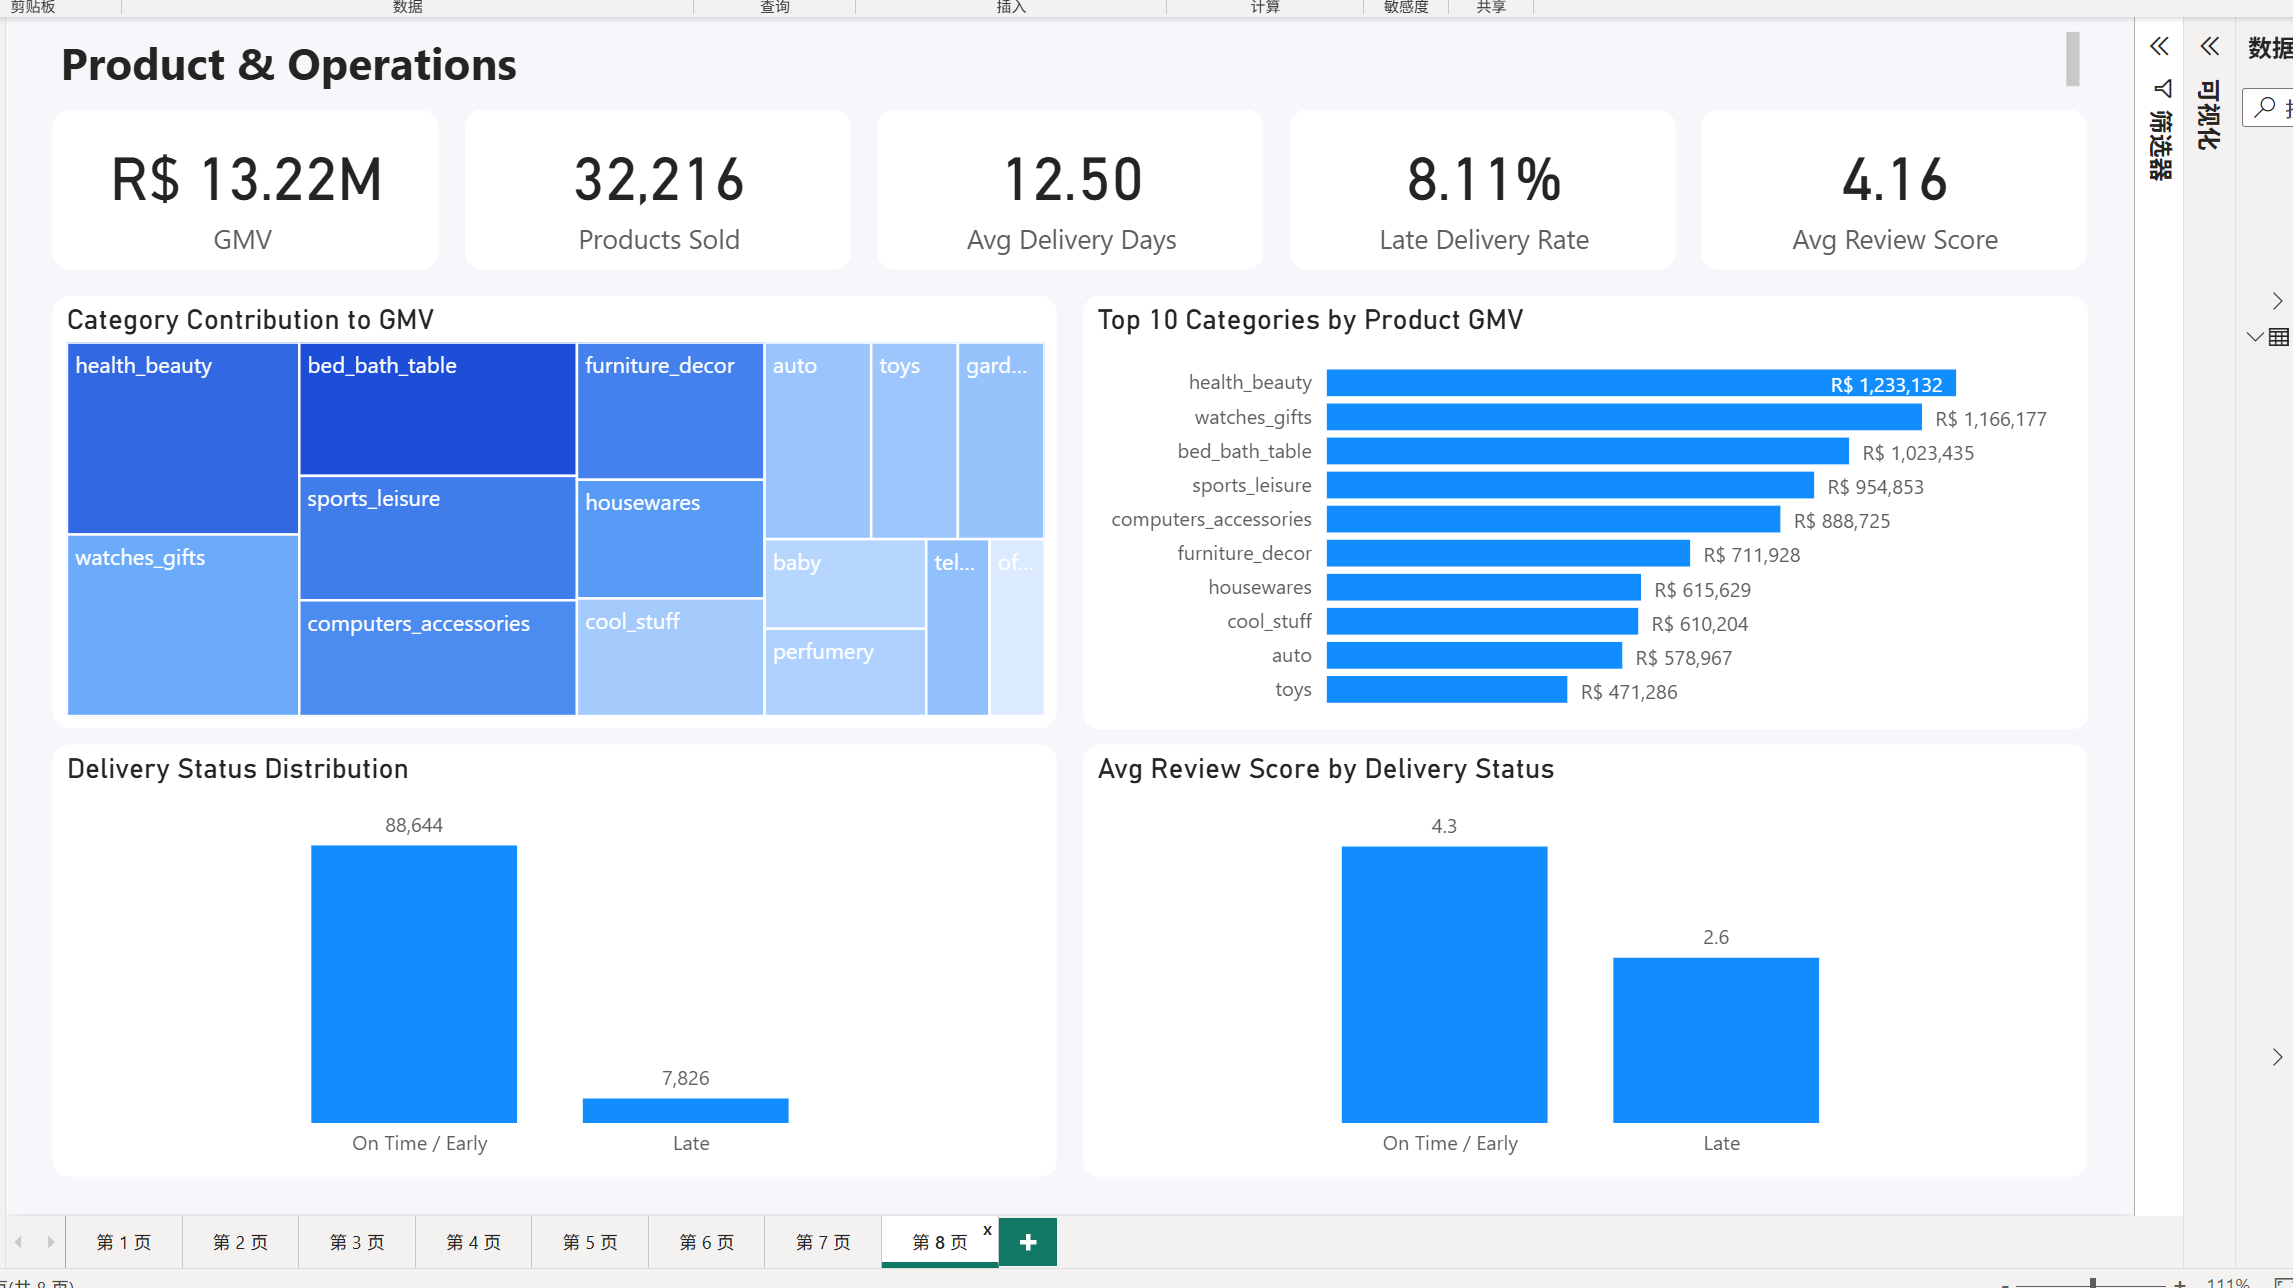

What the dashboard file says about the page in this screenshot:
{"tool":"powerbi","page":{"name":"第 3页","canvas":[1280,720],"ordinal":2},"visuals":[{"type":"textbox","box":[28,4,1224,44.3],"z":0},{"type":"card","fields":{"Values":["mart_powerbi_orders.Avg Review Score"]},"box":[1020,56,232.3,96],"z":1000},{"type":"card","fields":{"Values":["mart_powerbi_orders.Late Delivery Rate"]},"box":[772,56,232.3,96],"z":2000},{"type":"card","fields":{"Values":["mart_powerbi_orders.Avg Delivery Days"]},"box":[524,56.3,232.3,96],"z":3000},{"type":"card","fields":{"Values":["mart_powerbi_orders.GMV Card"]},"box":[28.2,56,232,96],"z":4000},{"type":"card","fields":{"Values":["mart_powerbi_order_items.Products Sold"]},"box":[276,56,232.3,96],"z":5000},{"type":"clusteredBarChart","title":"Top 10 Categories by Product GMV","fields":{"Y":["mart_powerbi_order_items.Product GMV"],"Category":["mart_powerbi_order_items.product_category"]},"box":[648,168,604.5,260.5],"z":6000},{"type":"treemap","title":"Category Contribution to GMV","fields":{"Group":["mart_powerbi_order_items.product_category"],"Values":["mart_powerbi_order_items.Product GMV"]},"box":[28.2,168,604,260],"z":7000},{"type":"clusteredColumnChart","title":"Delivery Status Distribution","fields":{"Category":["mart_powerbi_orders.delivery_status"],"Y":["mart_powerbi_orders.Orders"]},"box":[28,438,604,260],"z":8000},{"type":"clusteredColumnChart","title":"Avg Review Score by Delivery Status","fields":{"Category":["mart_powerbi_orders.delivery_status"],"Y":["mart_powerbi_orders.Avg Review Score"]},"box":[648,438,604,260],"z":9000}]}

Visuals, with their boxes on the page's 1280x720 design canvas (x1, y1, x2, y2). These are canvas units, not pixel positions in the 2293x1288 screenshot, which may show the page scaled, cropped or inside an application window:
textbox: 28:4:1252:48
card - mart_powerbi_orders.Avg Review Score: 1020:56:1252:152
card - mart_powerbi_orders.Late Delivery Rate: 772:56:1004:152
card - mart_powerbi_orders.Avg Delivery Days: 524:56:756:152
card - mart_powerbi_orders.GMV Card: 28:56:260:152
card - mart_powerbi_order_items.Products Sold: 276:56:508:152
"Top 10 Categories by Product GMV" clusteredBarChart: 648:168:1252:428
"Category Contribution to GMV" treemap: 28:168:632:428
"Delivery Status Distribution" clusteredColumnChart: 28:438:632:698
"Avg Review Score by Delivery Status" clusteredColumnChart: 648:438:1252:698
